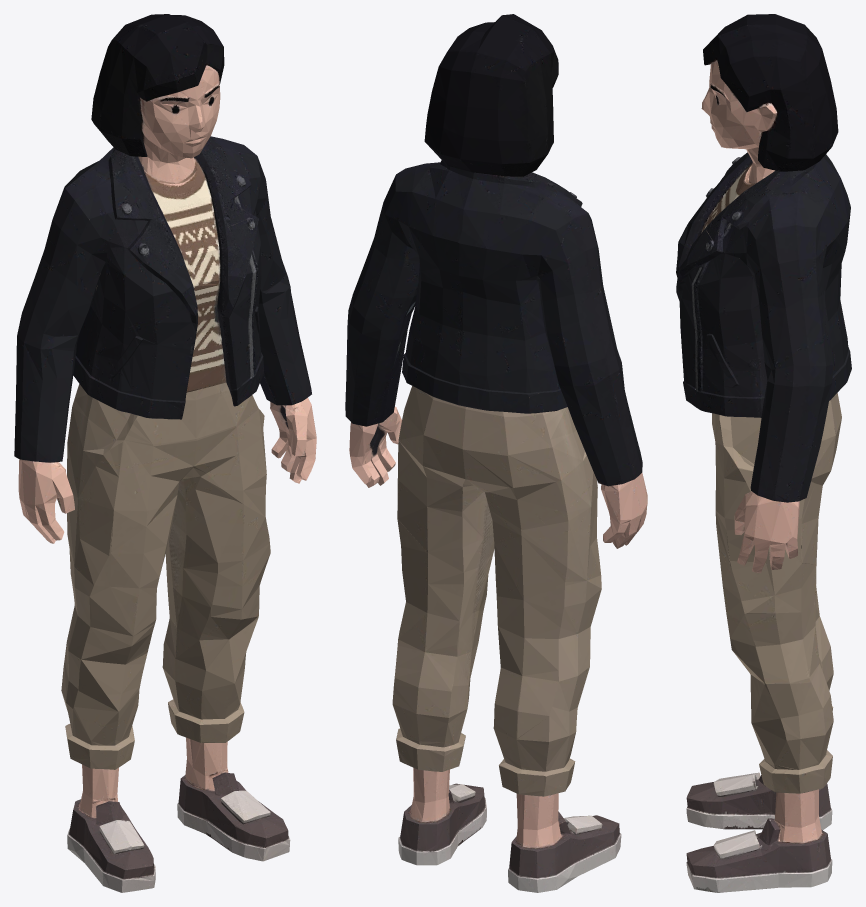
Rendered from passager_ref5.glb.
3 renders of one model, left to right at view 1: azimuth 30°, elevation 25°; view 2: azimuth 150°, elevation 25°; view 3: azimuth 270°, elevation 25°, orthographic.
Parts seen in each view (by area): view 1: geometry_0; view 2: geometry_0; view 3: geometry_0.
Boxes of the visible parts, left/top/right/bottom form: geometry_0: left=14, top=14, right=316, bottom=892; geometry_0: left=345, top=14, right=647, bottom=892; geometry_0: left=676, top=14, right=851, bottom=892.
Bounding box in the file's own units: 0.6973 × 1.9 × 0.3666.
1 material, 1 textured.
